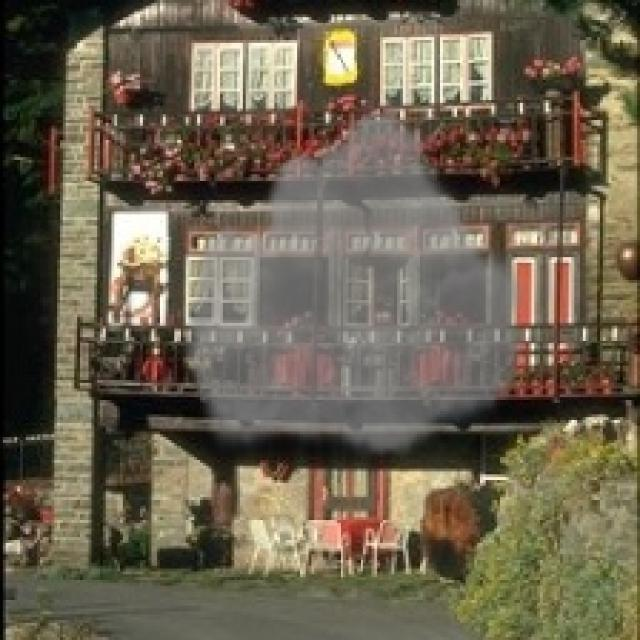smoke: (177, 97, 537, 460)
